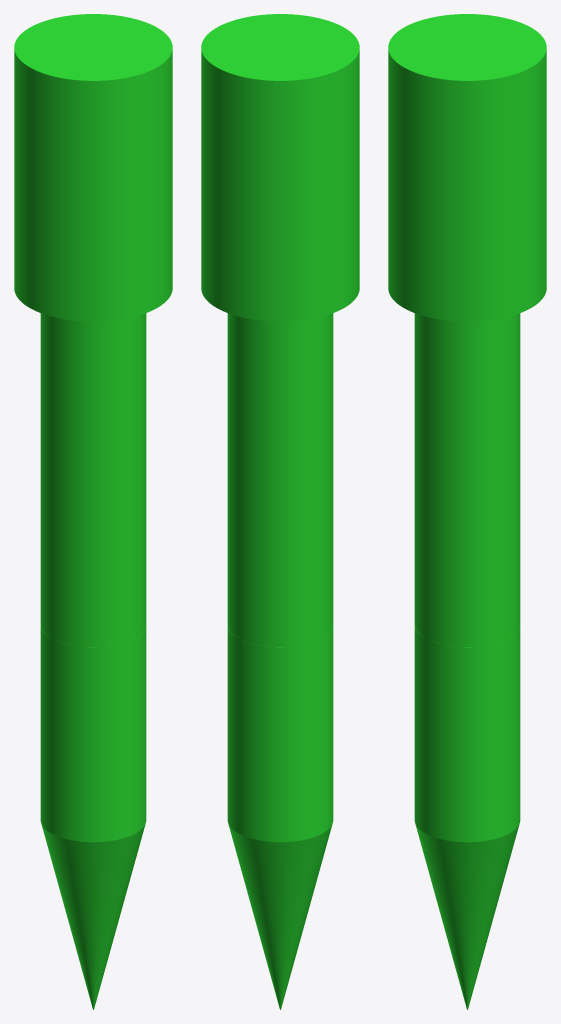
File: probeModel.dae
The picture shows the model from 3 angles, left to right: view 1: azimuth 30°, elevation 25°; view 2: azimuth 150°, elevation 25°; view 3: azimuth 270°, elevation 25°; orthographic projection.
Parts seen in each view (by area): view 1: MarsProbe; view 2: MarsProbe; view 3: MarsProbe.
Boxes of the visible parts, x1,y1,x2,y2 form: MarsProbe: (14, 14, 172, 1009); MarsProbe: (201, 14, 359, 1009); MarsProbe: (388, 14, 546, 1009).
Bounding box in the file's own units: 29.84 × 29.84 × 200.
